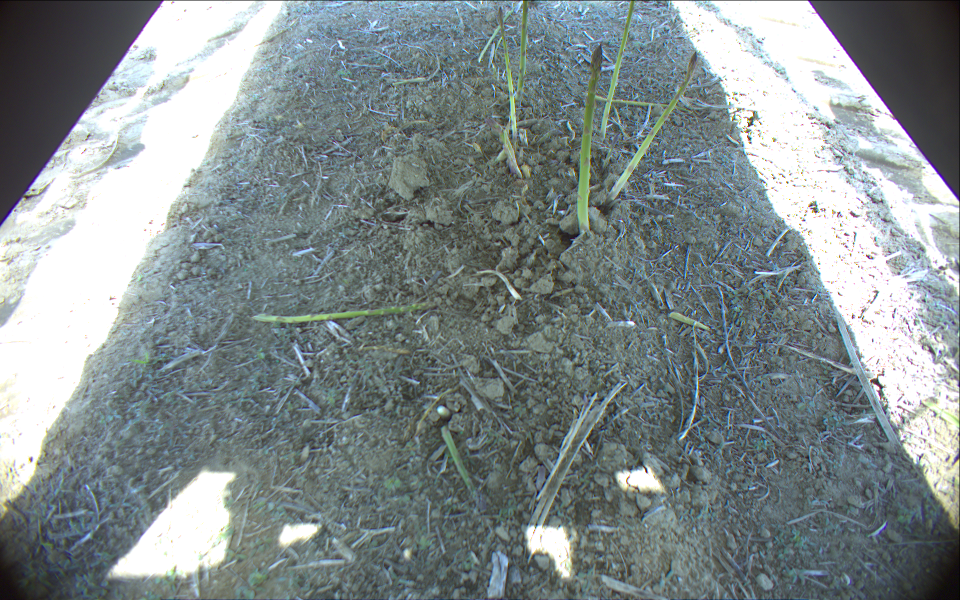aspa: (608, 51, 697, 201), (577, 42, 603, 238), (600, 1, 635, 137), (249, 301, 440, 325), (584, 93, 698, 121), (440, 427, 479, 506), (497, 9, 518, 143), (478, 1, 513, 62), (516, 1, 531, 112), (497, 127, 520, 180), (667, 310, 709, 332), (492, 47, 501, 82)
